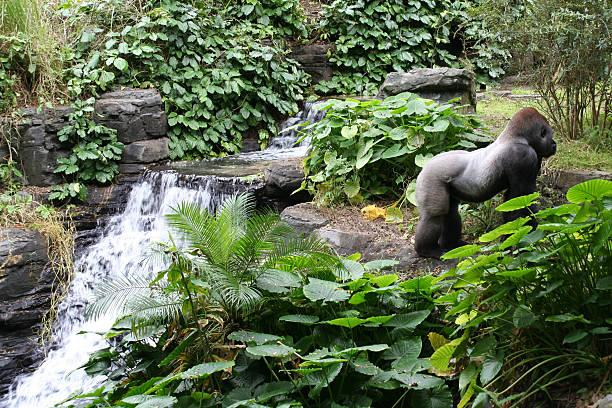gorille_Autres: (396, 108, 569, 239), (397, 144, 403, 145)
